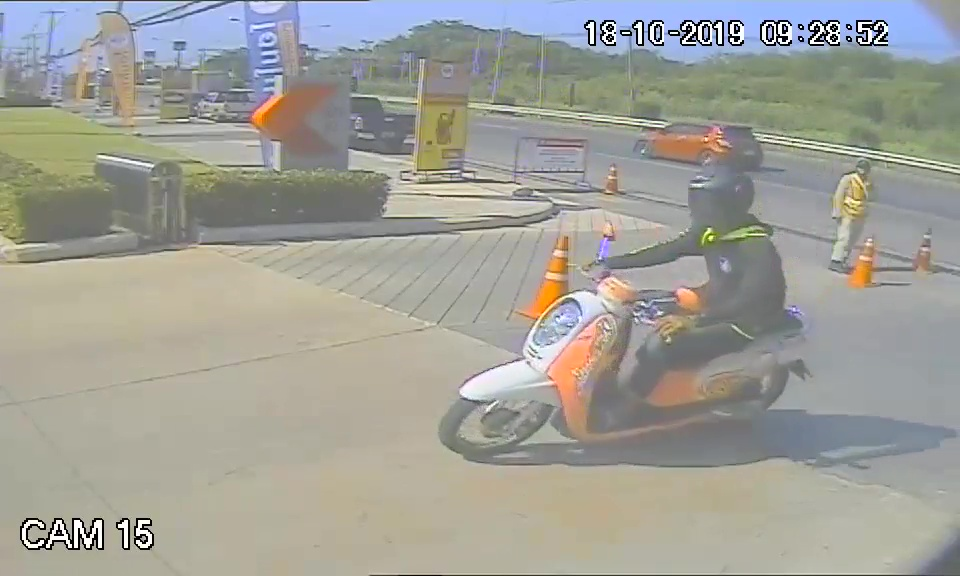motorcycle: (436, 277, 823, 457)
